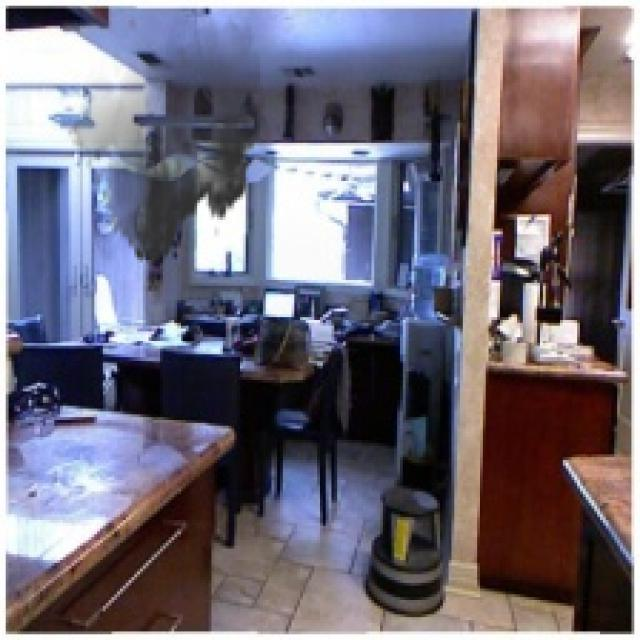Smoke: (66, 2, 266, 274)
